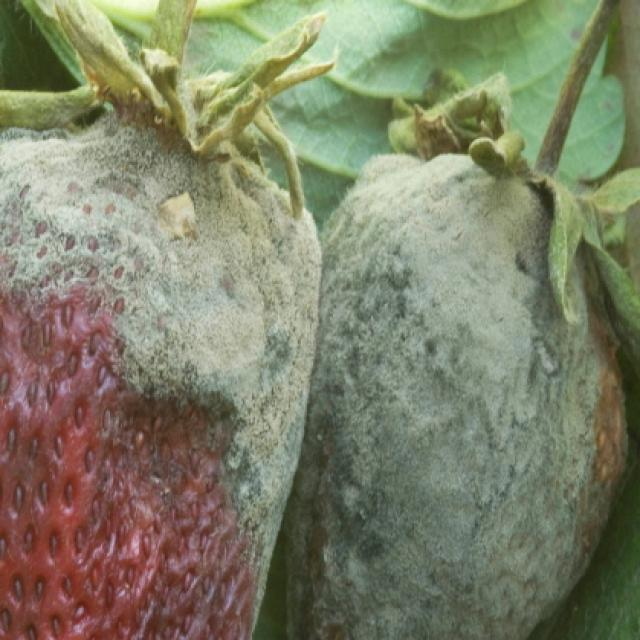Gray Mold: (281, 105, 638, 638), (0, 103, 326, 638)
